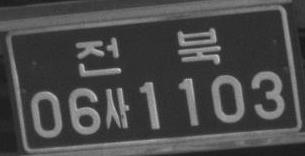0: (210, 74, 245, 123), (29, 90, 63, 138)
1: (175, 78, 206, 126), (135, 82, 164, 130)
3: (251, 69, 286, 120)
6: (67, 87, 101, 135)
사: (103, 87, 130, 129)
전북_D: (74, 25, 223, 76)
